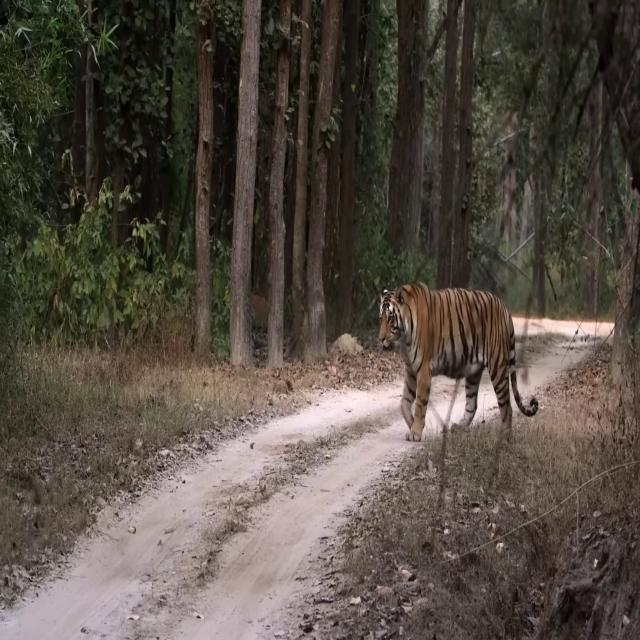tiger: (378, 282, 538, 442)
